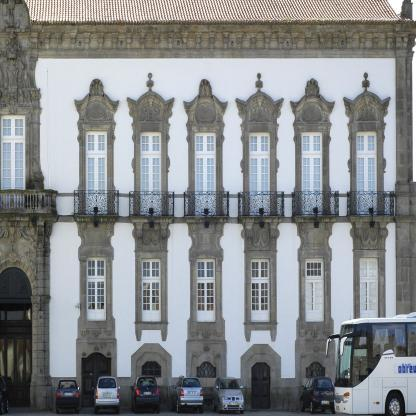Balcony: (0, 189, 58, 215), (74, 190, 119, 216), (347, 191, 394, 215), (292, 191, 339, 215), (238, 191, 284, 215), (130, 191, 175, 215), (184, 191, 229, 215)
Building Outline: (0, 0, 416, 412)
Cornice: (0, 0, 41, 115), (0, 220, 38, 296), (235, 73, 284, 125), (126, 73, 175, 123), (343, 73, 391, 123), (290, 78, 335, 126), (183, 79, 228, 126), (74, 78, 119, 123), (74, 215, 119, 257), (347, 215, 395, 252), (238, 216, 285, 253), (128, 216, 174, 253), (183, 216, 230, 251), (292, 215, 339, 250)
Dont: (300, 307, 416, 416), (171, 375, 204, 414), (91, 375, 121, 414), (212, 377, 244, 413), (130, 375, 160, 413), (54, 379, 80, 414), (0, 375, 9, 415)
Door: (0, 333, 32, 406), (82, 352, 112, 408), (2, 140, 25, 209), (195, 154, 216, 216), (86, 154, 107, 215), (141, 154, 162, 215), (250, 154, 270, 216), (251, 362, 270, 409)
Facade: (0, 0, 412, 411)
Floor Slab: (0, 216, 416, 224)
Ground Floor: (0, 224, 416, 412)
Molding: (31, 25, 416, 59)
Pillar: (35, 220, 46, 412)
Roof: (24, 0, 416, 26)
Top Floor: (0, 25, 412, 216)
Window: (142, 258, 161, 322), (197, 258, 216, 322), (251, 258, 270, 322), (306, 258, 325, 322), (360, 258, 379, 321), (87, 257, 106, 320), (142, 361, 161, 378), (197, 361, 216, 378), (306, 362, 325, 379), (7, 304, 24, 320), (15, 119, 23, 136), (3, 119, 11, 136), (262, 136, 268, 151), (99, 135, 105, 150), (88, 135, 94, 150), (251, 136, 257, 151), (153, 136, 159, 151), (142, 136, 148, 151), (207, 136, 213, 151), (197, 136, 203, 151), (0, 304, 5, 320), (26, 304, 31, 320)
